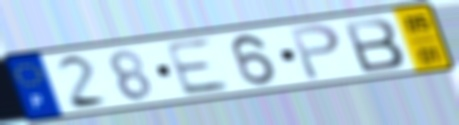2: (51, 54, 111, 111)
6: (228, 32, 280, 88)
8: (107, 48, 155, 102)
B: (340, 16, 407, 75)
E: (161, 36, 234, 98)
P: (285, 21, 343, 83)
